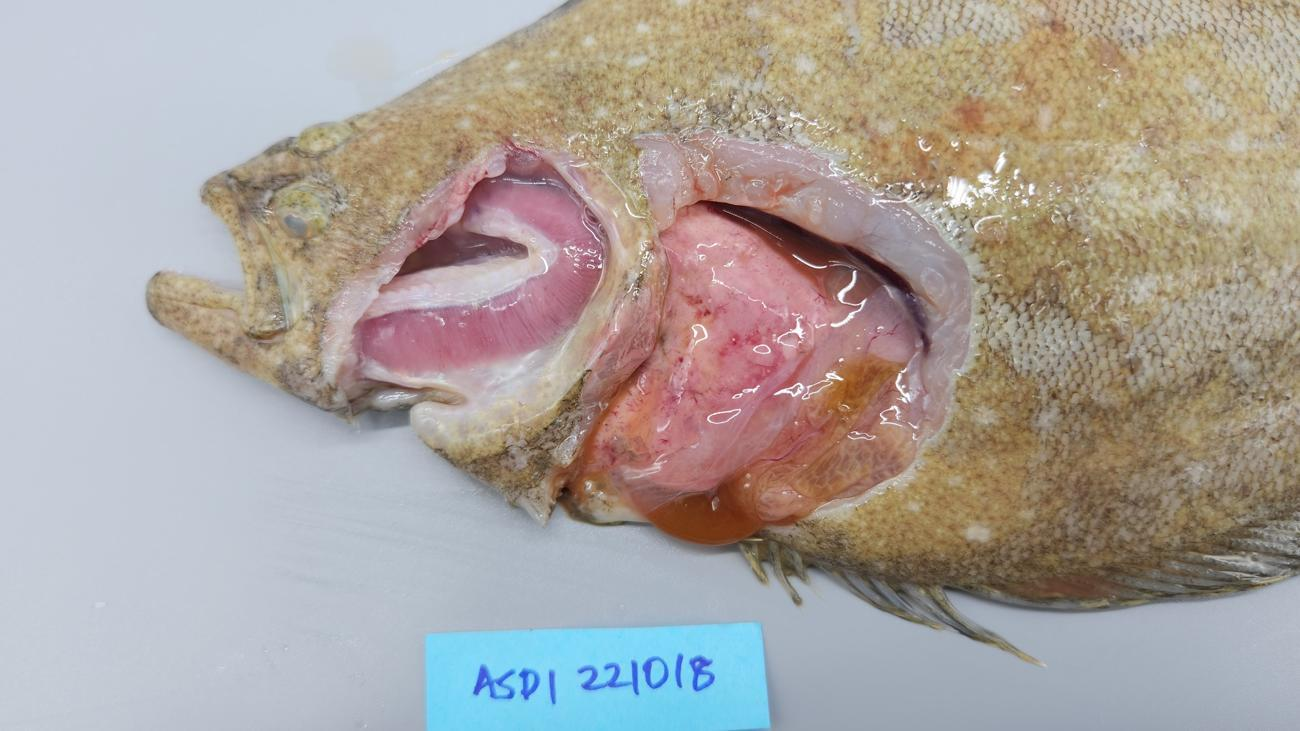SPGIP: (356, 174, 609, 374)
